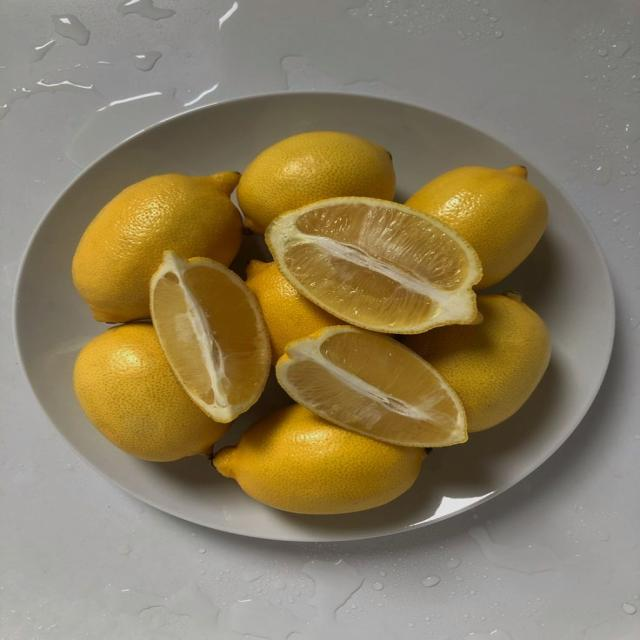lemon: (266, 198, 481, 333), (73, 172, 242, 322), (214, 406, 425, 514), (277, 327, 466, 447), (74, 323, 226, 461), (151, 252, 270, 422), (403, 294, 550, 431), (407, 166, 547, 289), (238, 132, 394, 232), (247, 260, 342, 362)
